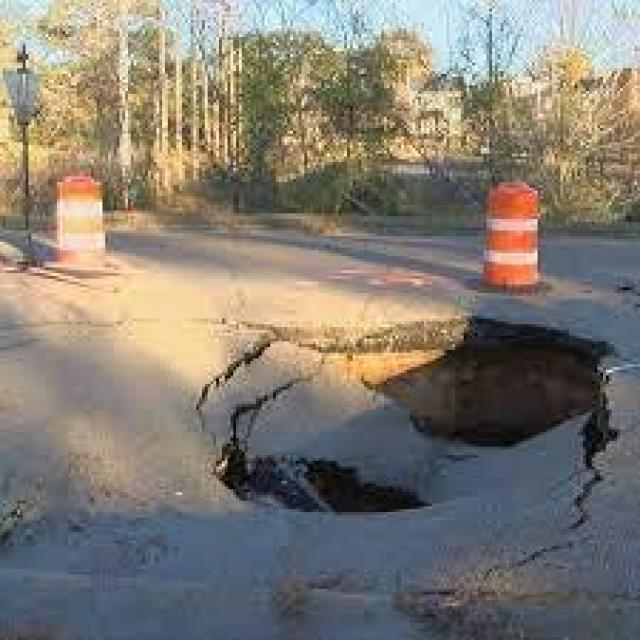Pothole: (139, 284, 640, 560)
